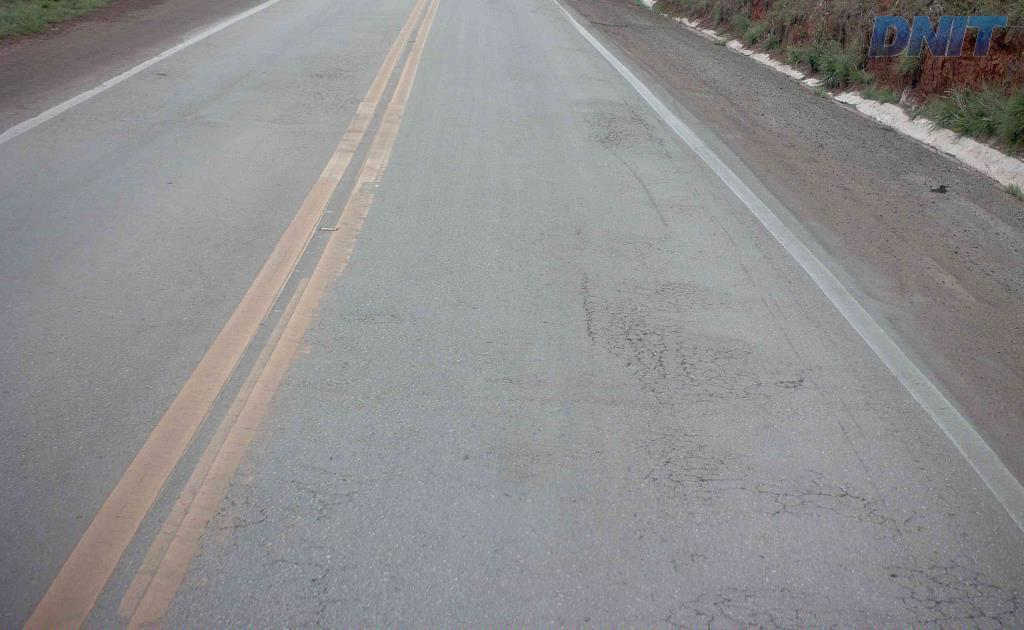crack: (660, 442, 728, 493), (616, 317, 664, 381), (964, 572, 1017, 629), (639, 342, 671, 390), (864, 507, 923, 533)
